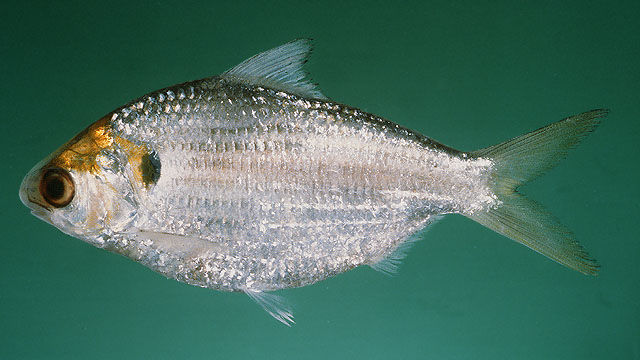fish: (18, 36, 609, 327)
